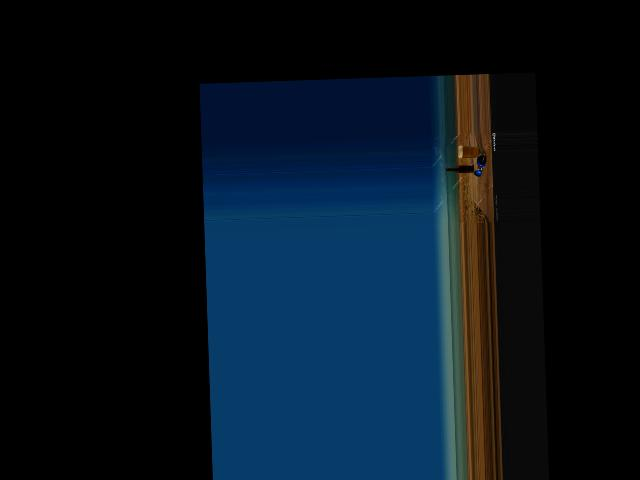beer: (445, 165, 474, 173)
